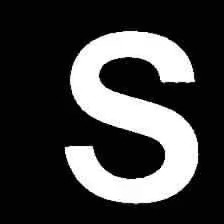LTR_S: (58, 23, 205, 207)
